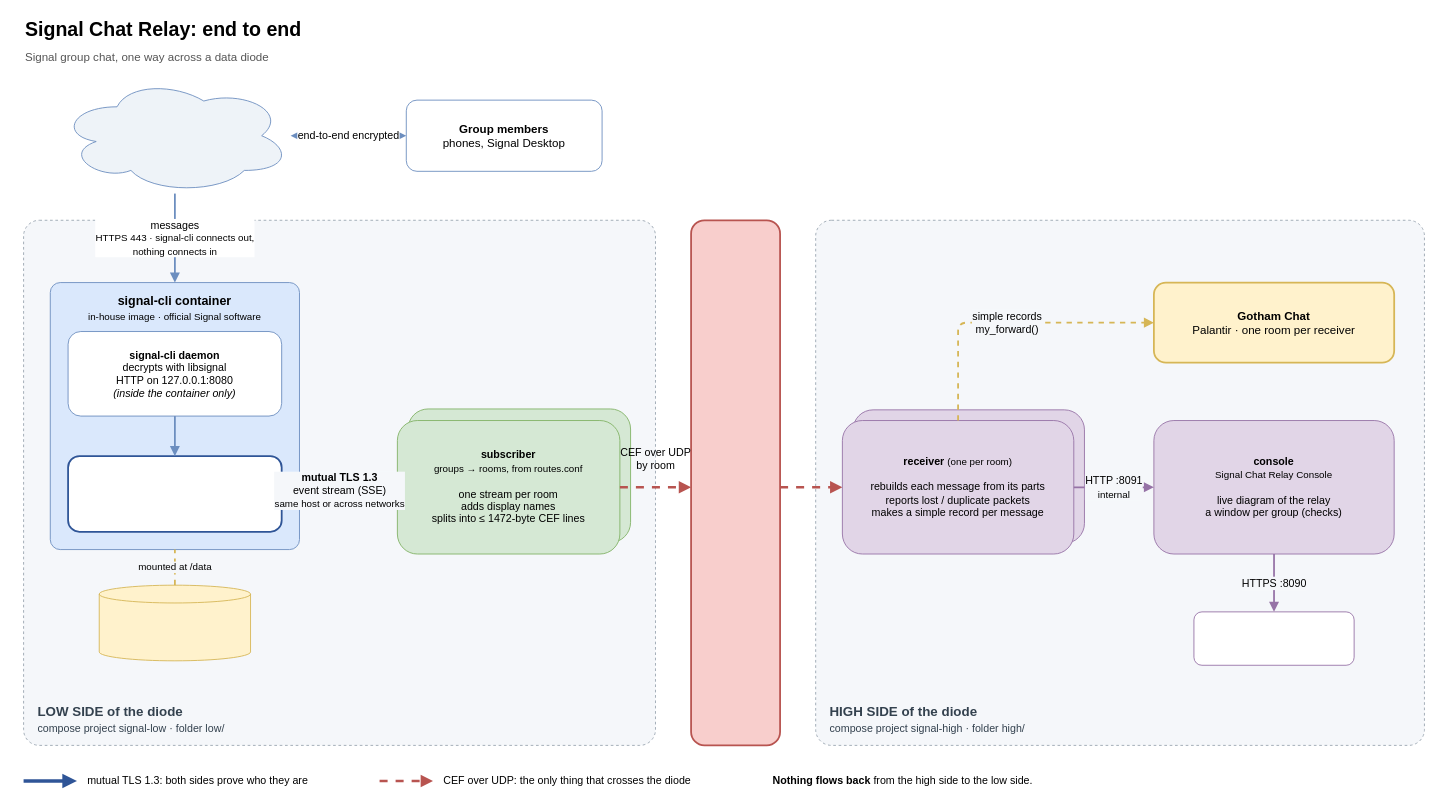
This 1440x809 diagram has some shape labels left out. Here are the shapes that lost their labels. From the top down, the centre of each, then its label:
point 174,135: Signal servers chat.signal.org
point 174,493: TLS gateway :8443 mutual TLS 1.3 read-only allowlist (no send)
point 735,482: DATA DIODE one way only · routes each room to its receiver
point 174,622: low/signal-data the account's keys
point 1273,638: Browser
